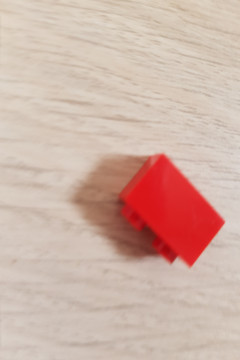1x2 red: (117, 152, 227, 269)
